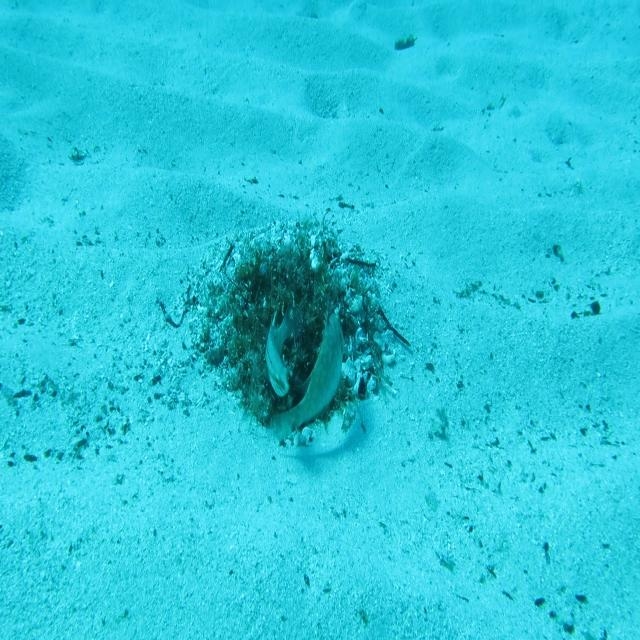BEND: (267, 306, 346, 446)
core_nest: (258, 257, 318, 300)
female: (263, 299, 302, 398)
nest: (177, 208, 400, 458)
vegetation: (393, 28, 416, 54)
